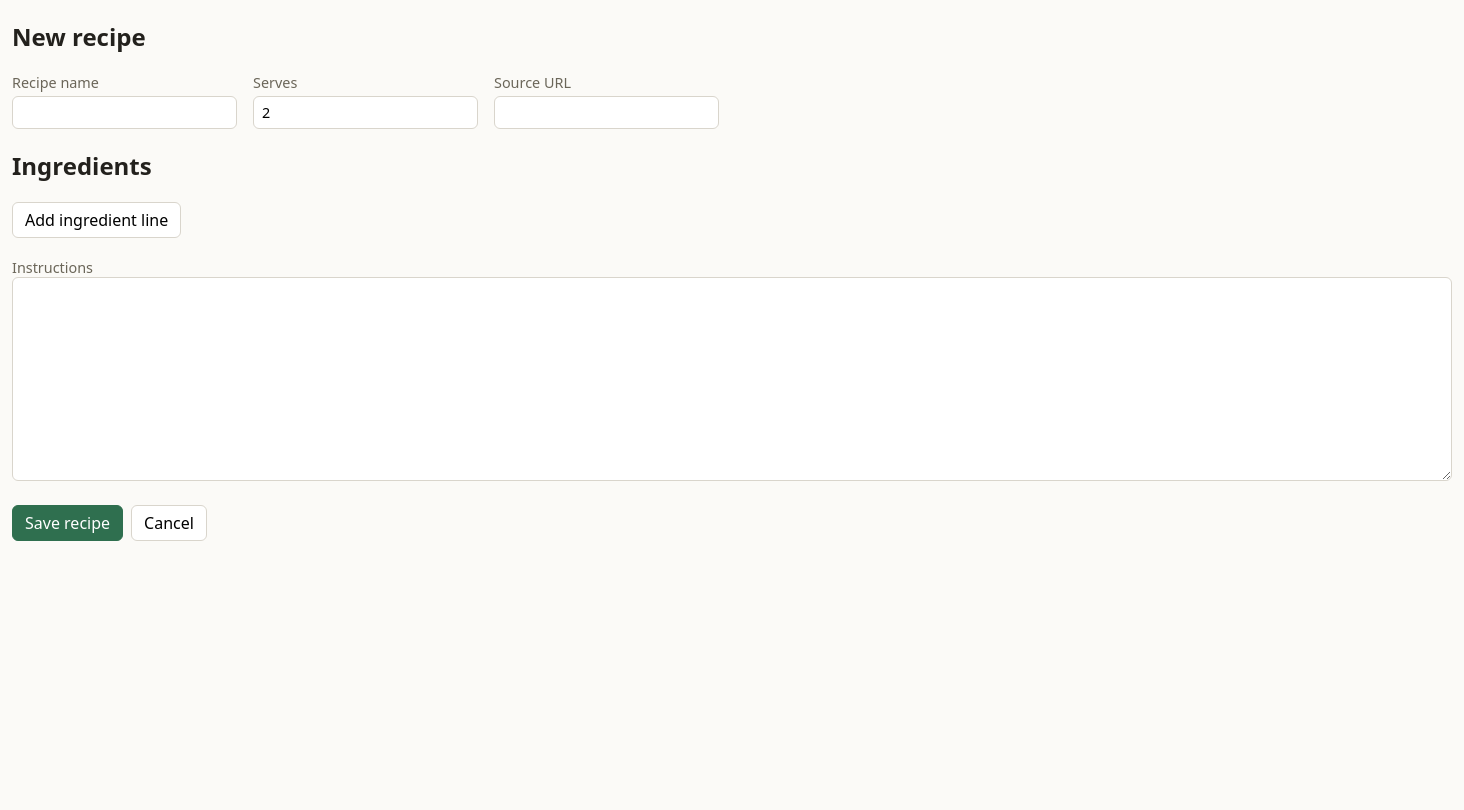
Test: RecipeEditorPage › selects a newly created ingredient into the line it was created from
Click the button "Add ingredient line". click: (97, 220)
box: [12, 202, 181, 238]
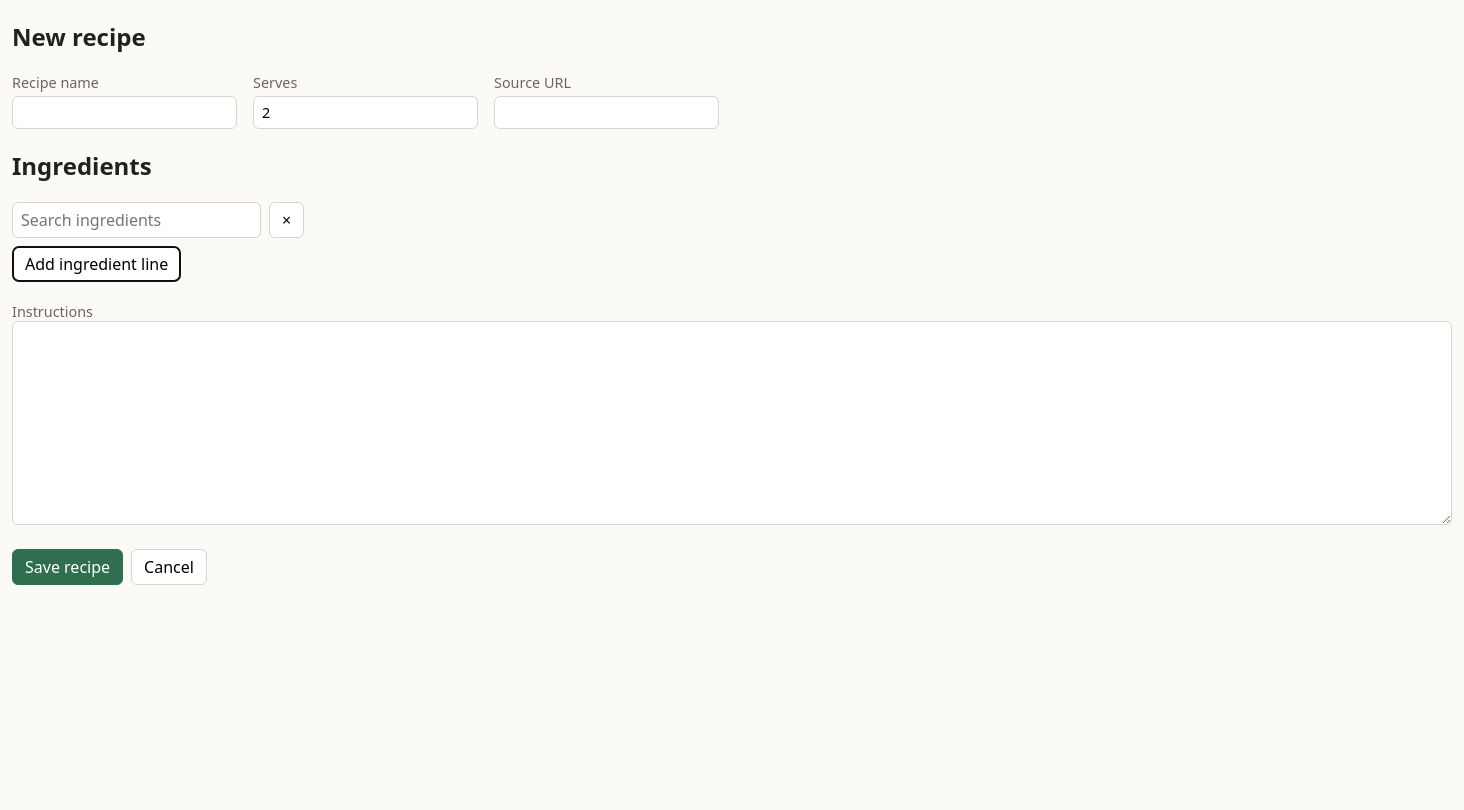
Type "Tahini" into the field with placeholder "Search ingredients". click: (136, 220)
box: [12, 202, 261, 238]
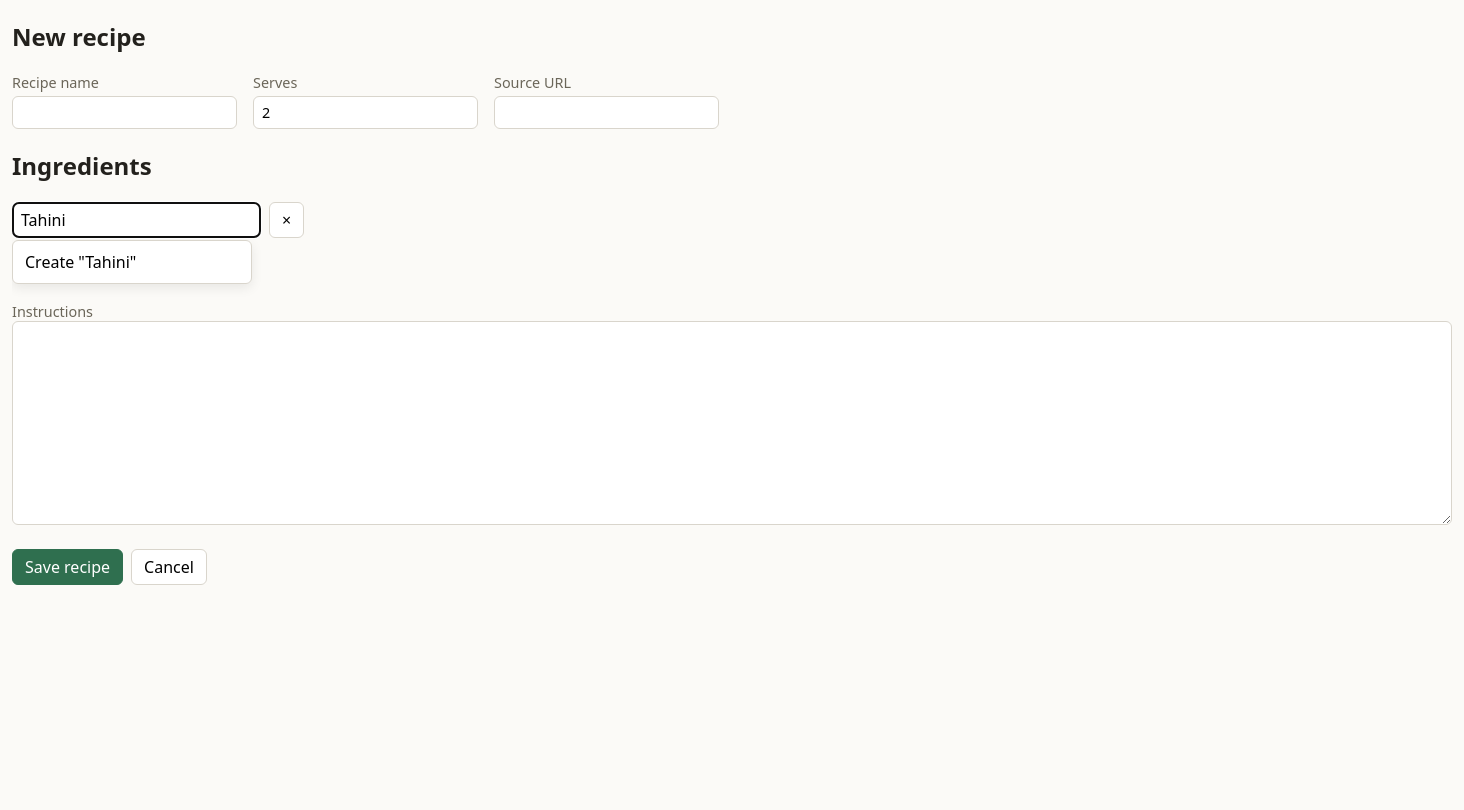
Click the option "Create \"Tahini\"". click: (132, 262)
box: [17, 245, 247, 279]
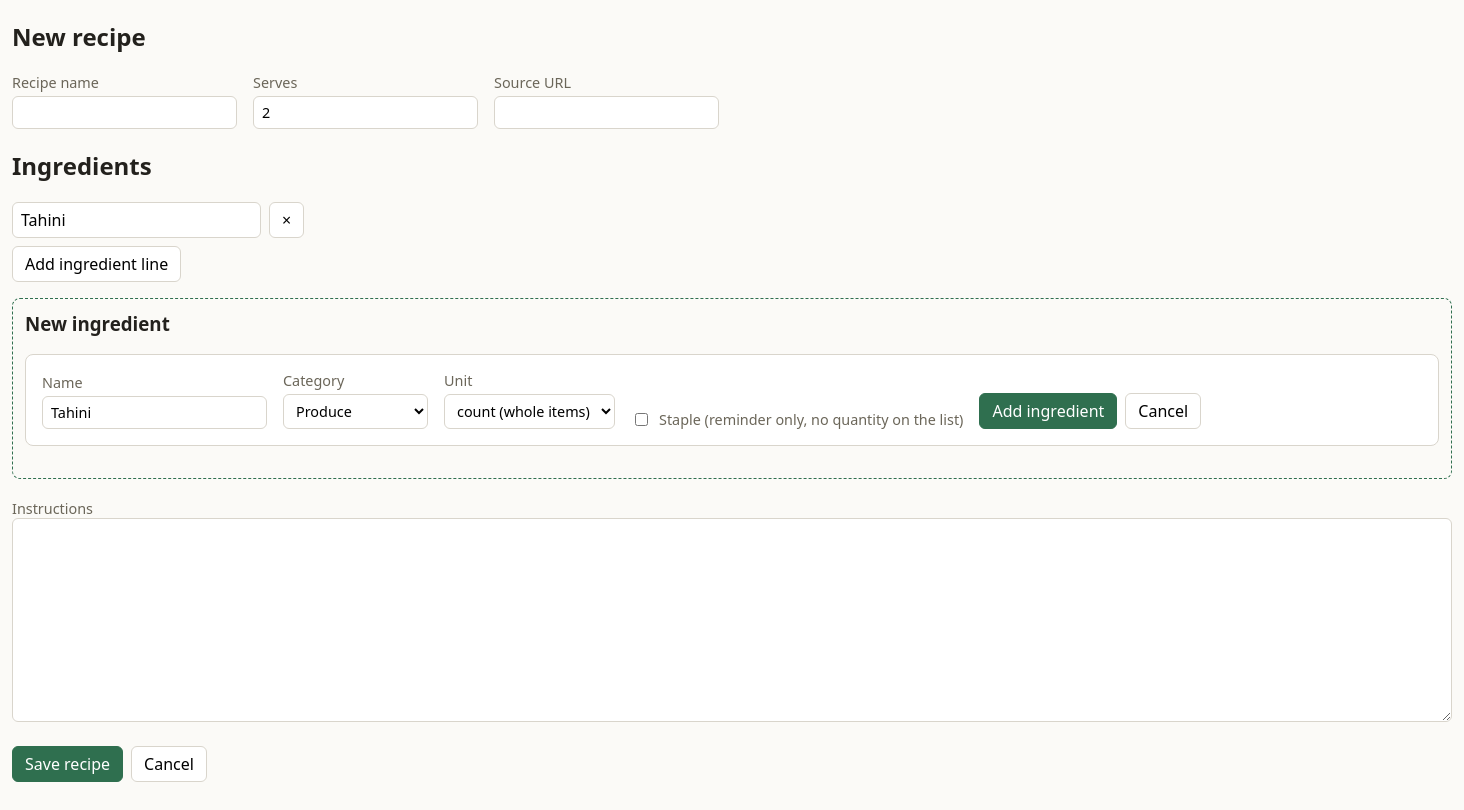
Click the button "Add ingredient". click: (1048, 411)
box: [979, 393, 1117, 429]
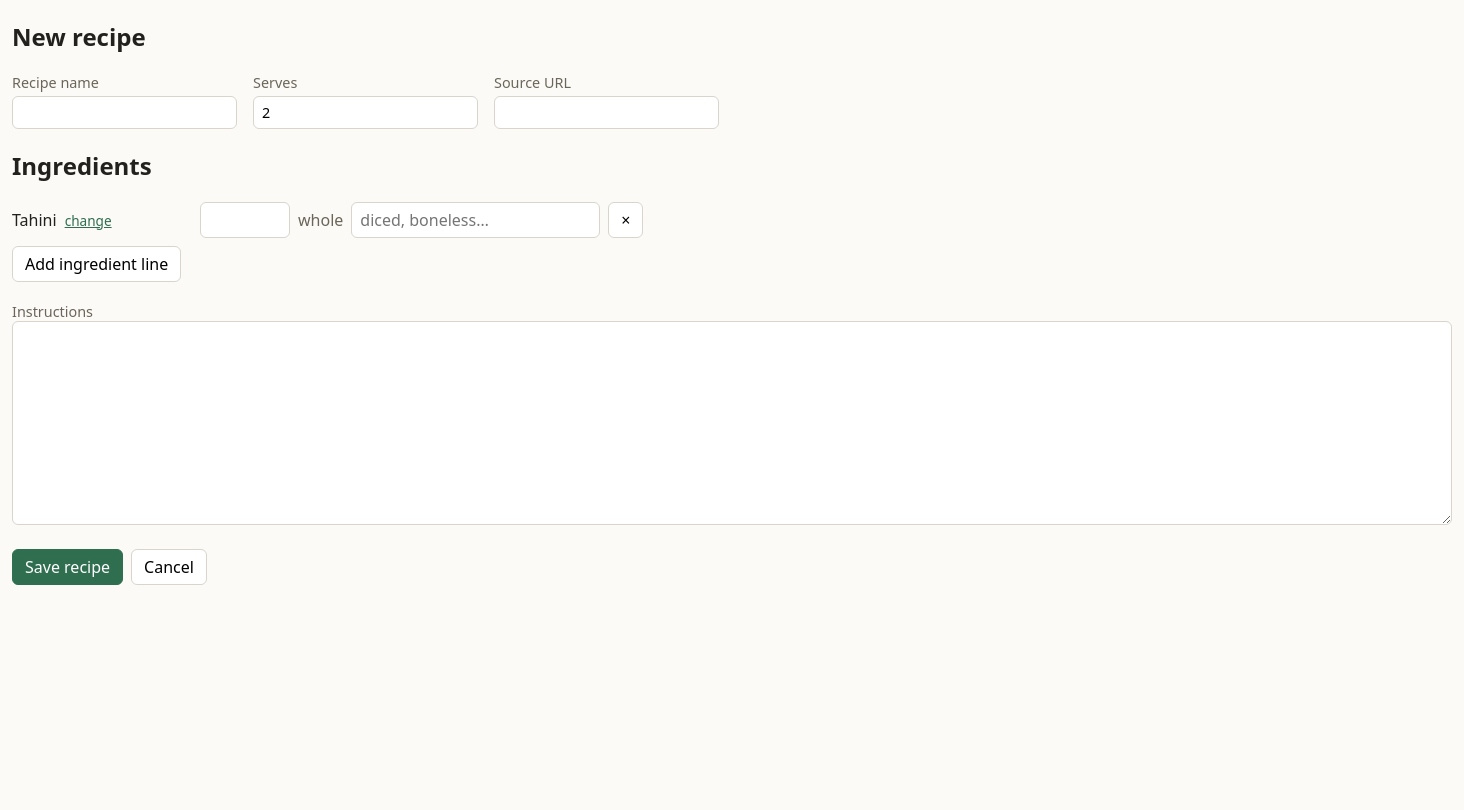
Expected: the text "Tahini" is shown, [12, 209, 57, 231]
Expected: the heading "New ingredient" is gone
